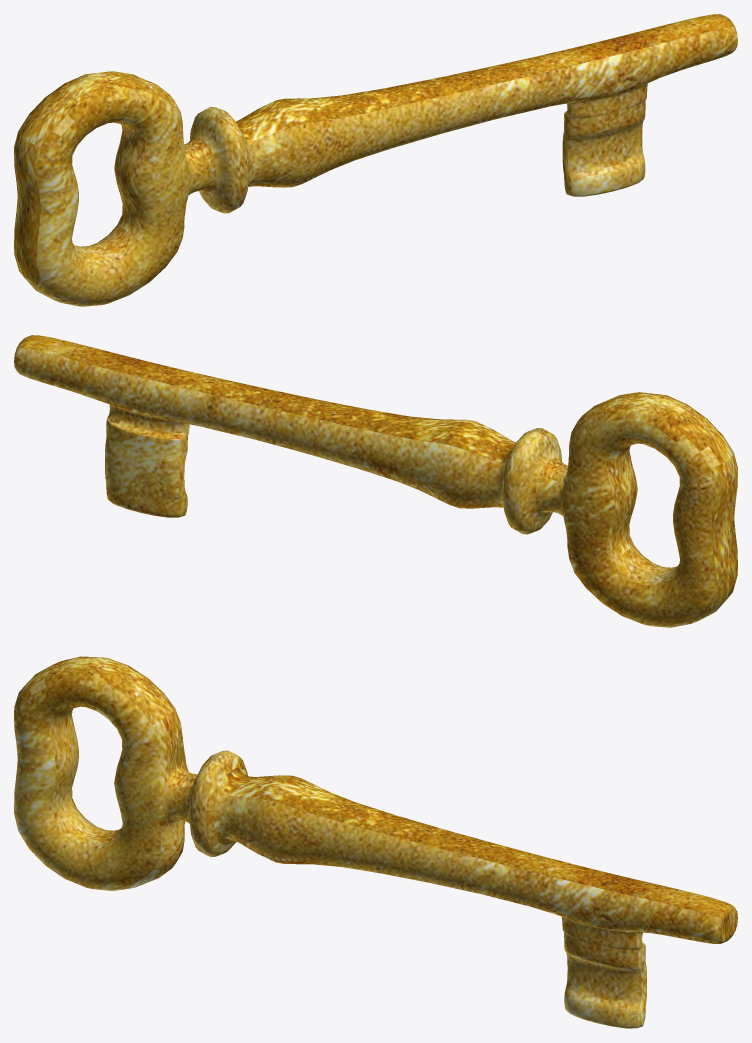
Rendered from key.FBX.
The picture shows the model from 3 angles, top to bottom: view 1: azimuth 30°, elevation 25°; view 2: azimuth 150°, elevation 25°; view 3: azimuth 330°, elevation 25°; orthographic projection.
Parts seen in each view (by area): view 1: Tube001; view 2: Tube001; view 3: Tube001.
Boxes of the visible parts, x1,y1,x2,y2 form: Tube001: (14, 14, 737, 306); Tube001: (14, 335, 737, 627); Tube001: (14, 656, 737, 1028).
Bounding box in the file's own units: 295 × 92.87 × 32.92.
